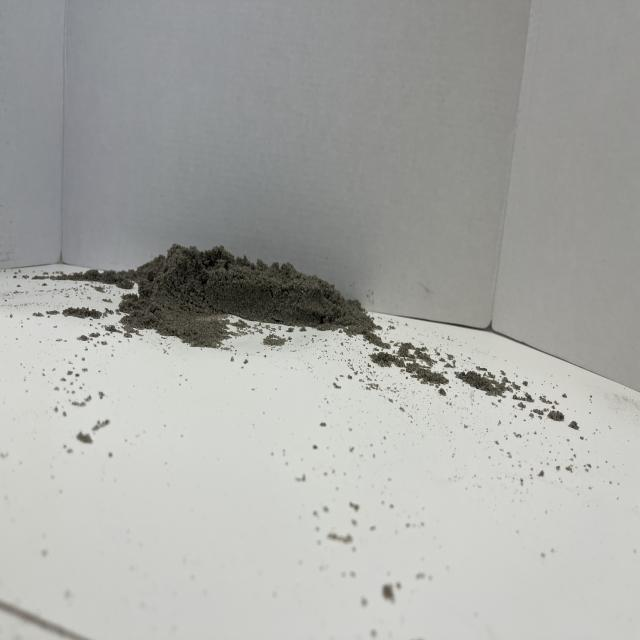sand: (115, 232, 393, 368)
